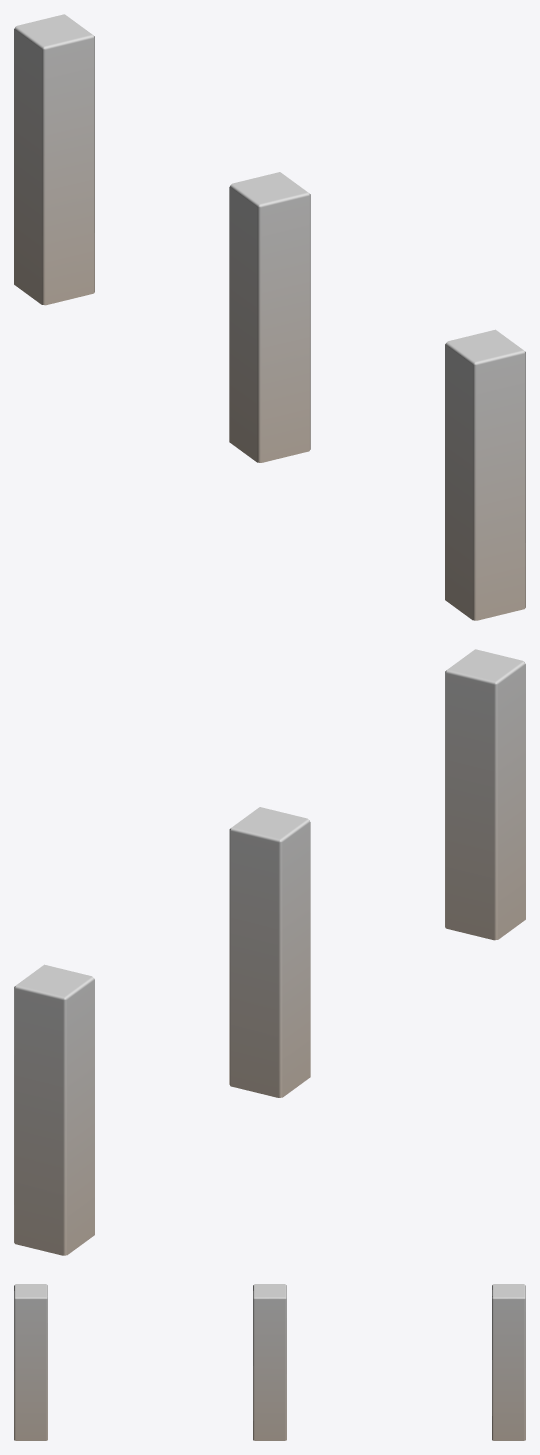
Rendered from si_res_concrete_support.dae.
The picture shows the model from 3 angles, top to bottom: view 1: azimuth 30°, elevation 25°; view 2: azimuth 150°, elevation 25°; view 3: azimuth 270°, elevation 25°; orthographic projection. The views are drawn at different scales.
Parts seen in each view (by area): view 1: si_res_concrete_support; view 2: si_res_concrete_support; view 3: si_res_concrete_support.
Boxes of the visible parts, x1,y1,x2,y2 form: si_res_concrete_support: (14, 14, 525, 620); si_res_concrete_support: (14, 649, 525, 1255); si_res_concrete_support: (14, 1284, 525, 1440).
Size of the model in its own units: 0.4 by 6 by 1.85.
